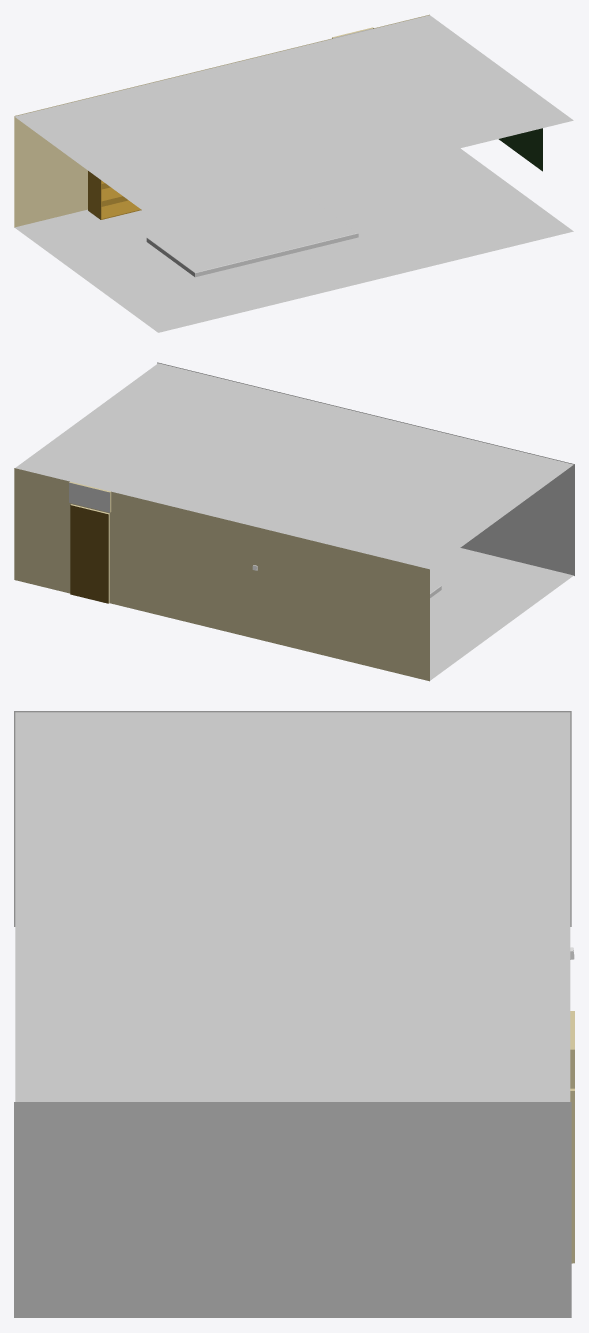
File: Room.gltf
3 views of the same model, one above another, from view 1: azimuth 30°, elevation 25°; view 2: azimuth 150°, elevation 25°; view 3: azimuth 270°, elevation 25° (orthographic). The views are drawn at different scales.
Visible parts, largest first — view 1: Plane.001, Plane, Plane.002, Cube.001, Plane.004; view 2: Plane.001, Plane.002, Plane, Plane.006; view 3: Plane.001, Plane.005, Plane.003, Plane.002.
Boxes of the visible parts, x1,y1,x2,y2 form: Plane.001: (14, 15, 573, 221); Plane: (14, 148, 573, 332); Plane.002: (14, 14, 429, 227); Cube.001: (88, 171, 141, 219); Plane.004: (498, 128, 542, 171); Plane.001: (15, 363, 573, 569); Plane.002: (14, 468, 429, 681); Plane: (430, 548, 573, 680); Plane.006: (157, 362, 574, 575); Plane.001: (15, 712, 570, 1101); Plane.005: (14, 1102, 571, 1317); Plane.003: (14, 711, 571, 926); Plane.002: (570, 1011, 574, 1263).
Size of the model in its own units: 10.05 by 2.57 by 6.06.
